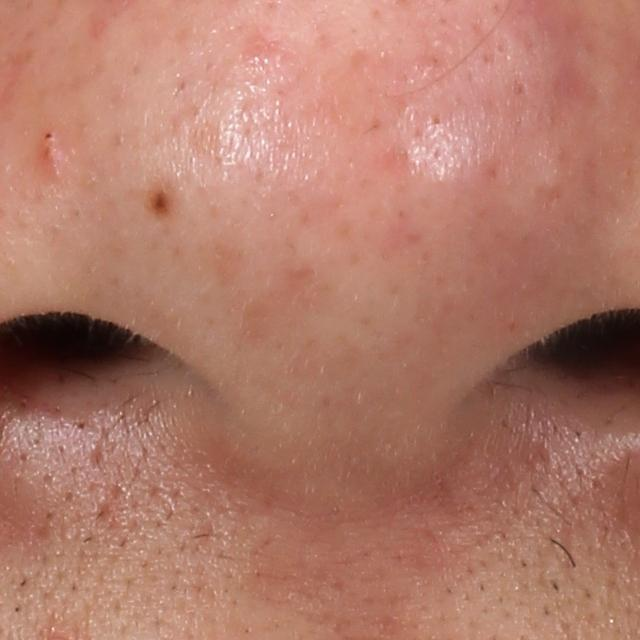nevus: (148, 186, 174, 216)
